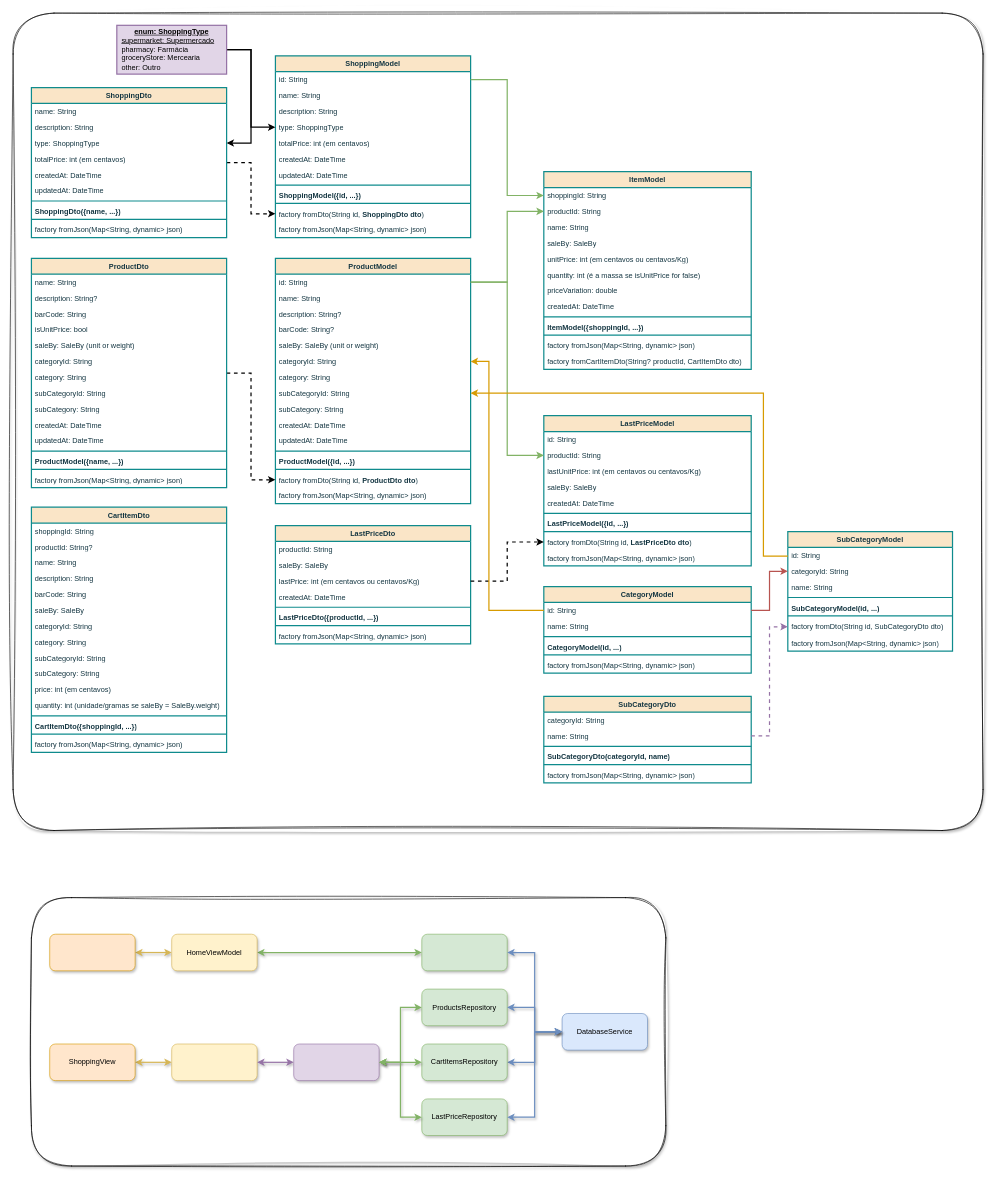
Some shapes in this 997 by 1181 pixel diagram are drawn without their labels. Each missing label, with the centre of its shape:
"HomeView" belongs at (93,953).
"ShoppingCartUserCase" belongs at (337,1063).
"ShoppingRepository" belongs at (465,953).
"ShoppingViewModel" belongs at (215,1063).
